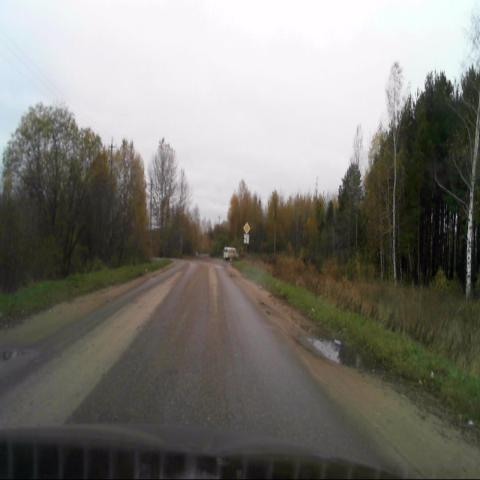2_1: (243, 222, 250, 234)
